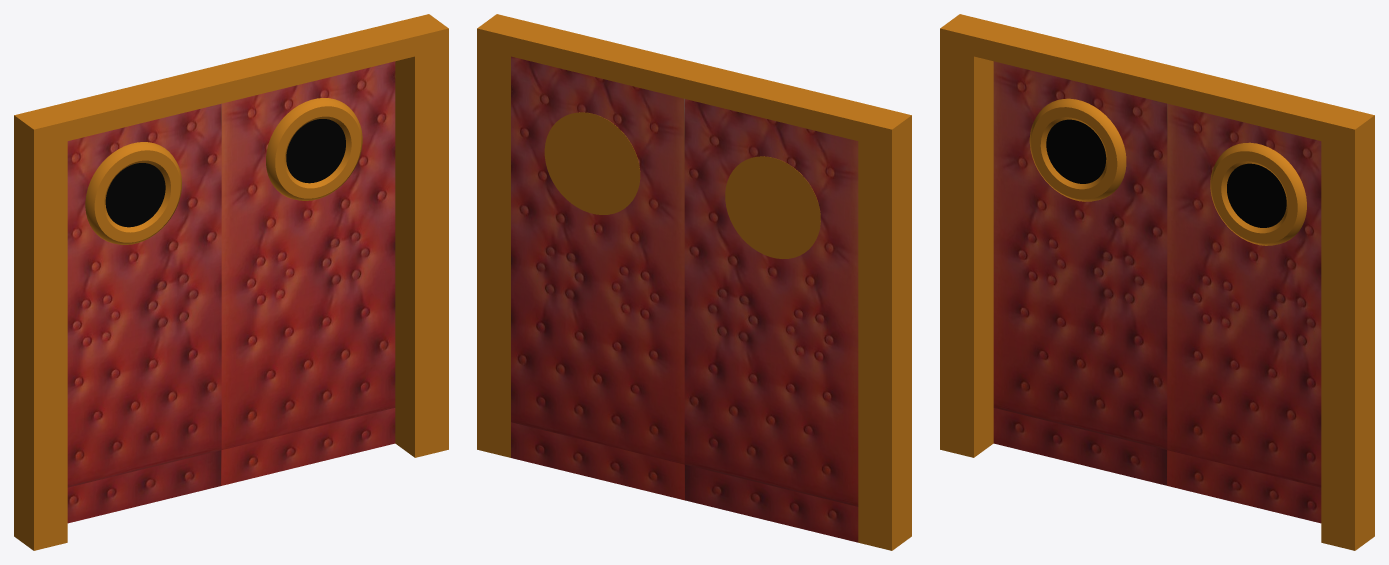
File: backstage door.fbx
The picture shows the model from 3 angles, left to right: view 1: azimuth 30°, elevation 25°; view 2: azimuth 150°, elevation 25°; view 3: azimuth 330°, elevation 25°; orthographic projection.
Visible parts, largest first — view 1: Door Backstage; view 2: Door Backstage; view 3: Door Backstage.
Boxes of the visible parts, x1,y1,x2,y2 form: Door Backstage: (14,14,448,550); Door Backstage: (477,14,911,550); Door Backstage: (940,14,1374,550).
Bounding box in the file's own units: 1084 × 1052 × 90.21.
